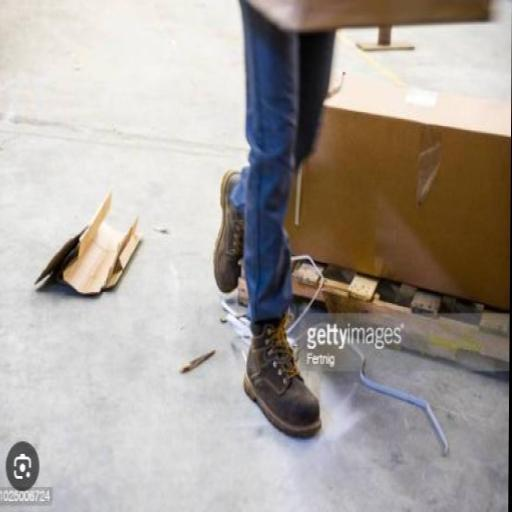safety_boots: (237, 323, 342, 442), (211, 170, 254, 295)
